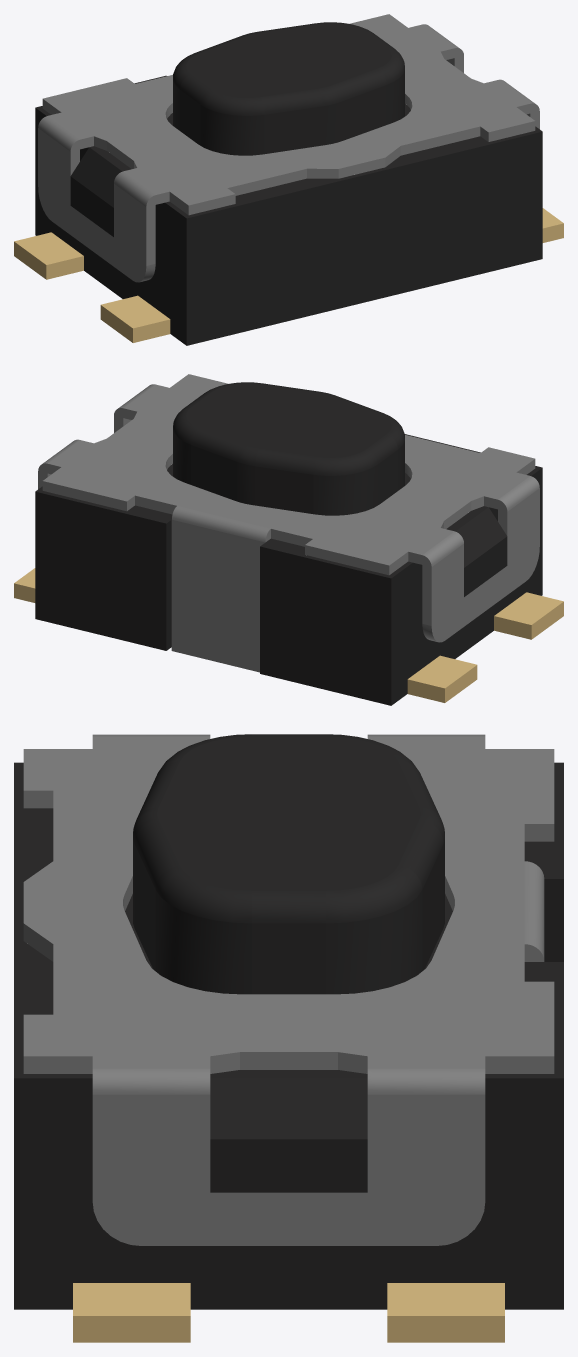
The model's file is kc-sw_push_1p1t-sh_no_ck_kmr2xxg.glb.
The picture shows the model from 3 angles, top to bottom: view 1: azimuth 30°, elevation 25°; view 2: azimuth 150°, elevation 25°; view 3: azimuth 270°, elevation 25°; orthographic projection. The views are drawn at different scales.
Parts seen in each view (by area): view 1: 0_0_0_0, 0.25_0.25_0.25_0, 0.75_0.5_0.25_0.9; view 2: 0_0_0_0, 0.25_0.25_0.25_0, 0.75_0.5_0.25_0.9; view 3: 0_0_0_0, 0.25_0.25_0.25_0, 0.75_0.5_0.25_0.9.
Boxes of the visible parts, x1=… form: 0_0_0_0: x1=35, y1=22, x2=542, y2=345; 0.25_0.25_0.25_0: x1=38, y1=14, x2=539, y2=282; 0.75_0.5_0.25_0.9: x1=14, y1=208, x2=563, y2=342; 0_0_0_0: x1=35, y1=382, x2=542, y2=705; 0.25_0.25_0.25_0: x1=38, y1=374, x2=539, y2=672; 0.75_0.5_0.25_0.9: x1=14, y1=568, x2=563, y2=702; 0_0_0_0: x1=14, y1=734, x2=563, y2=1309; 0.25_0.25_0.25_0: x1=23, y1=734, x2=554, y2=1245; 0.75_0.5_0.25_0.9: x1=73, y1=1283, x2=504, y2=1342.
Bounding box in the file's own units: 0.46 × 0.194 × 0.28.
